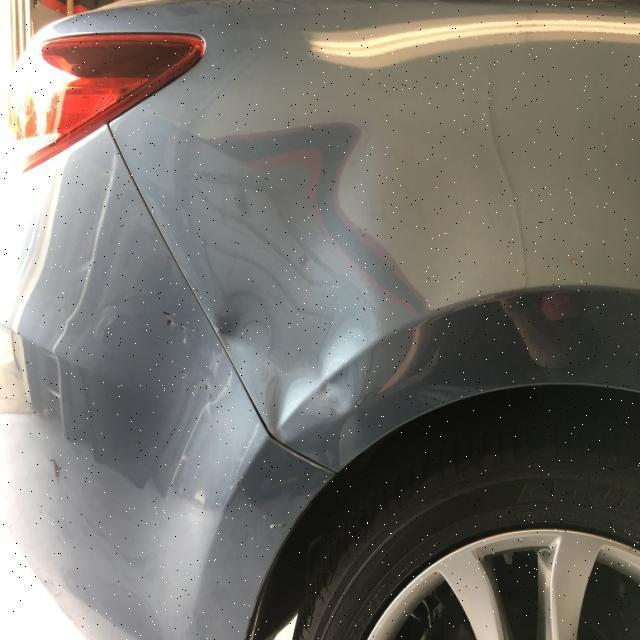quaterpanel-dent: (138, 0, 640, 597)
